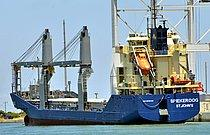Ship: (9, 21, 207, 126)
